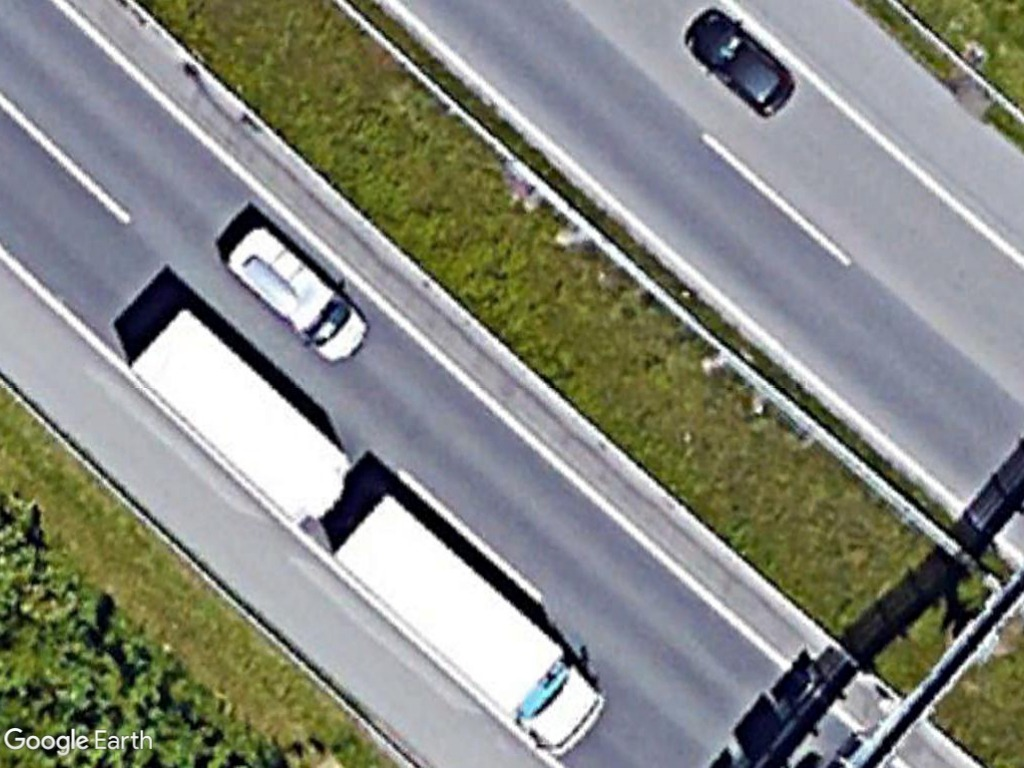car: (680, 14, 800, 125)
truck: (337, 486, 612, 766)
van: (223, 217, 374, 366)
